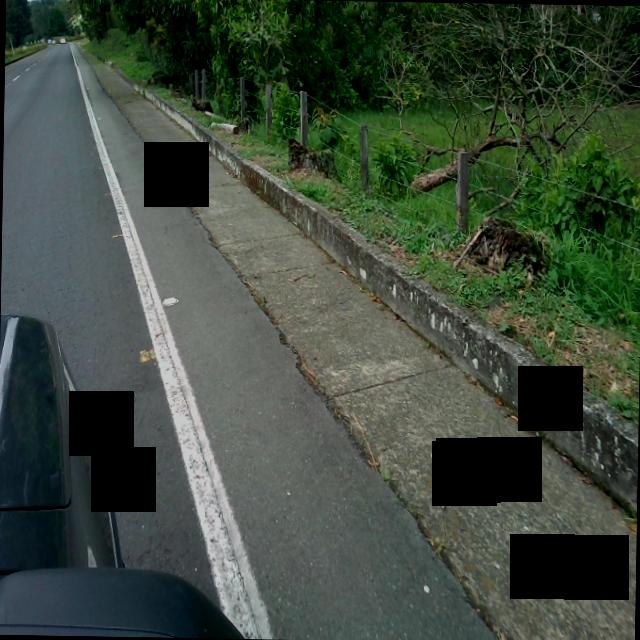DITCH: (54, 29, 640, 640), (59, 38, 640, 640)
